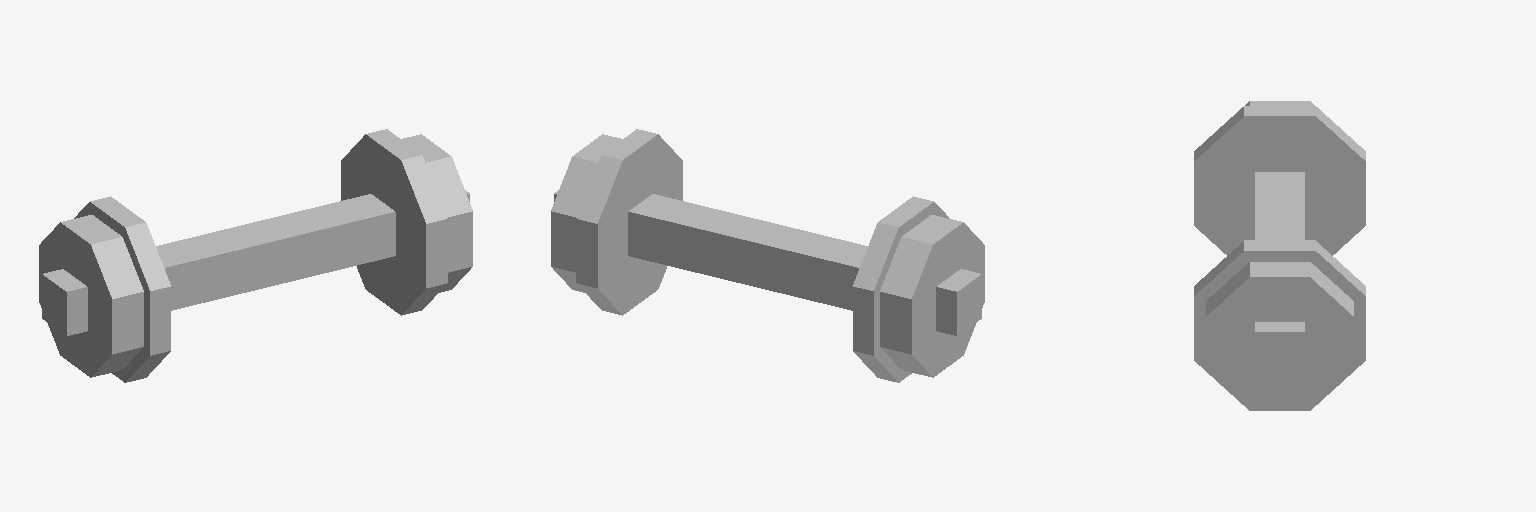
The model's file is cr_bogey_wheels.obj.
3 views of the same model, side by side, from view 1: azimuth 30°, elevation 25°; view 2: azimuth 150°, elevation 25°; view 3: azimuth 270°, elevation 25° (orthographic).
Visible parts, largest first — view 1: cube1, cylinder1, cylinder4, cylinder3, cylinder2; view 2: cube1, cylinder1, cylinder4, cylinder3, cylinder2; view 3: cylinder3, cylinder2, cube1, cylinder1.
Boxes of the visible parts, x1=… form: cube1: x1=42, y1=190, x2=469, y2=335; cylinder1: x1=341, y1=129, x2=447, y2=315; cylinder4: x1=39, y1=215, x2=143, y2=377; cylinder3: x1=74, y1=196, x2=170, y2=382; cylinder2: x1=401, y1=134, x2=472, y2=292; cube1: x1=554, y1=190, x2=981, y2=335; cylinder1: x1=576, y1=129, x2=682, y2=315; cylinder4: x1=880, y1=215, x2=984, y2=377; cylinder3: x1=853, y1=196, x2=949, y2=382; cylinder2: x1=551, y1=134, x2=622, y2=292; cylinder3: x1=1194, y1=106, x2=1365, y2=255; cylinder2: x1=1206, y1=262, x2=1353, y2=410; cube1: x1=1255, y1=172, x2=1304, y2=376; cylinder1: x1=1194, y1=240, x2=1365, y2=404.
Size of the model in its own units: 2.38 by 0.875 by 0.875.